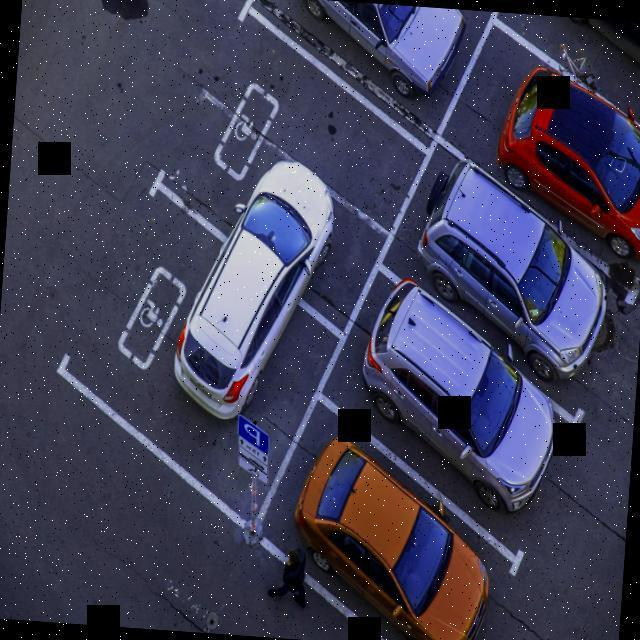car: (192, 53, 398, 294), (110, 223, 312, 460), (408, 170, 606, 411), (352, 281, 538, 498), (295, 451, 483, 632), (468, 53, 640, 239), (270, 0, 465, 109)
